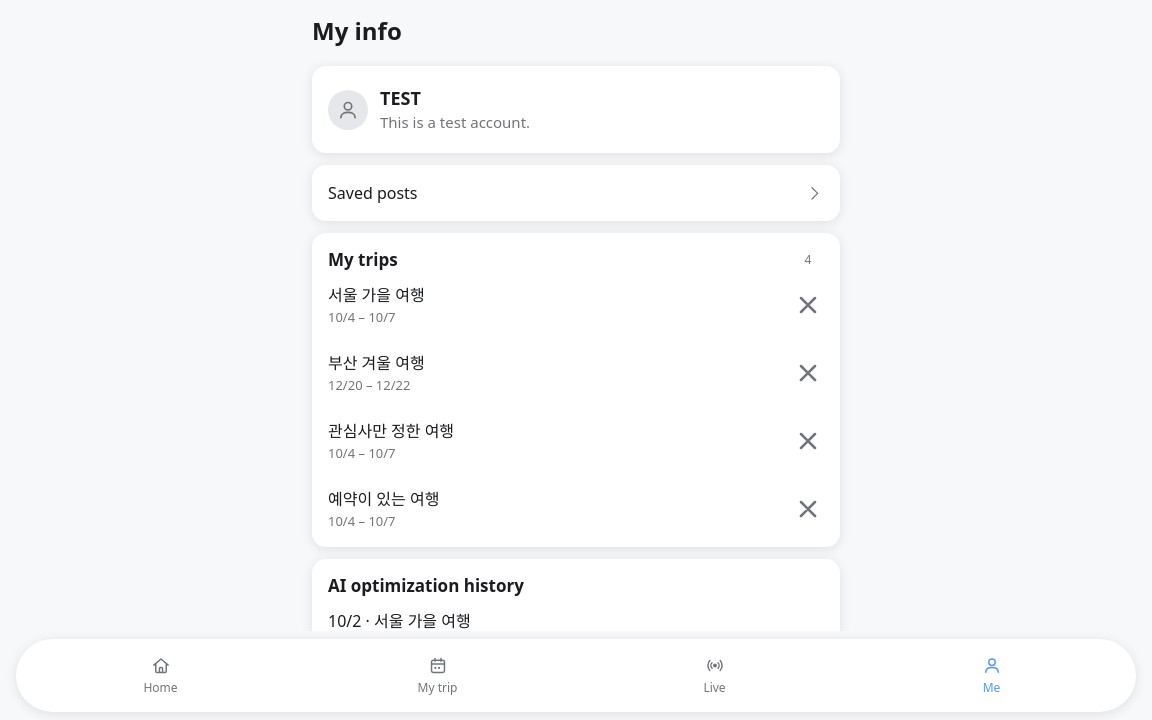
Scenario: FE-105-T4 closing a confirm on the profile returns focus › keeps focus in the page, not the document, once the row is deleted
Press Tab
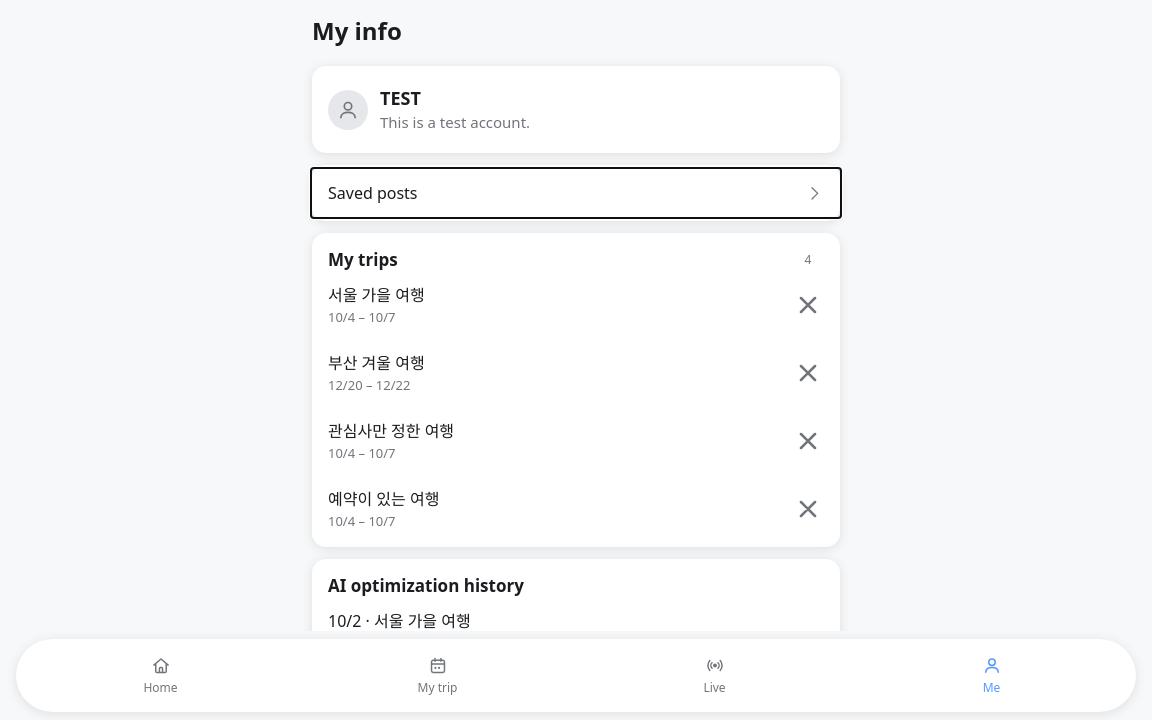
Press Tab
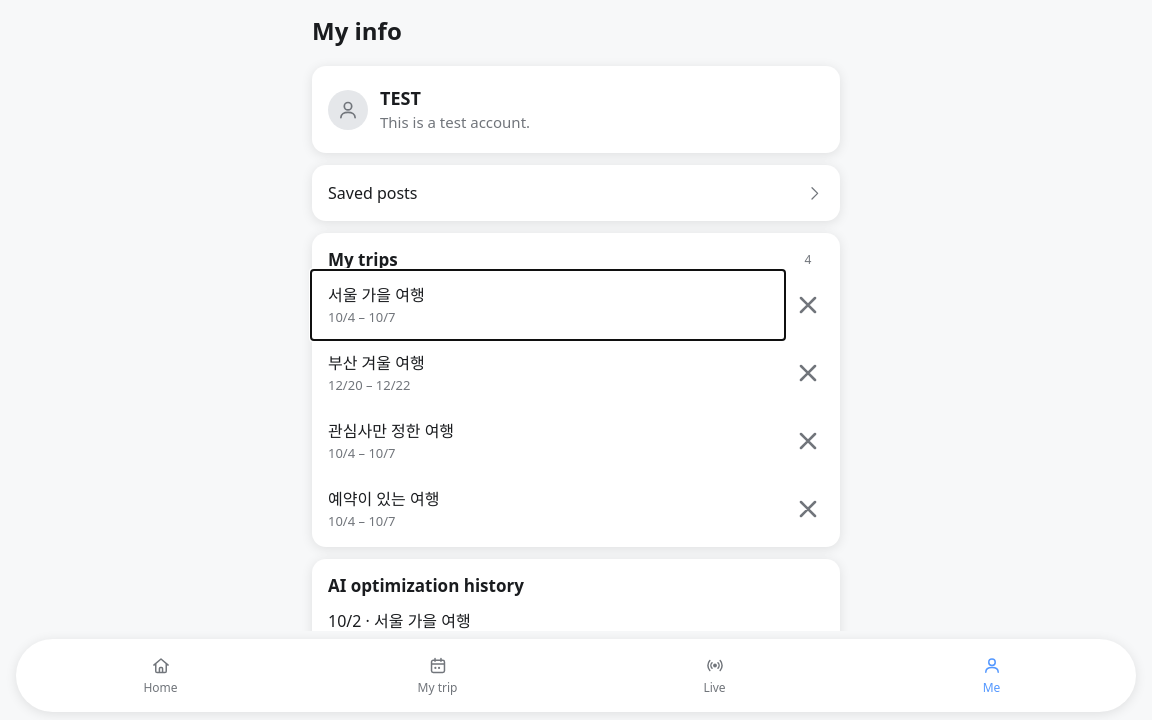
Press Tab
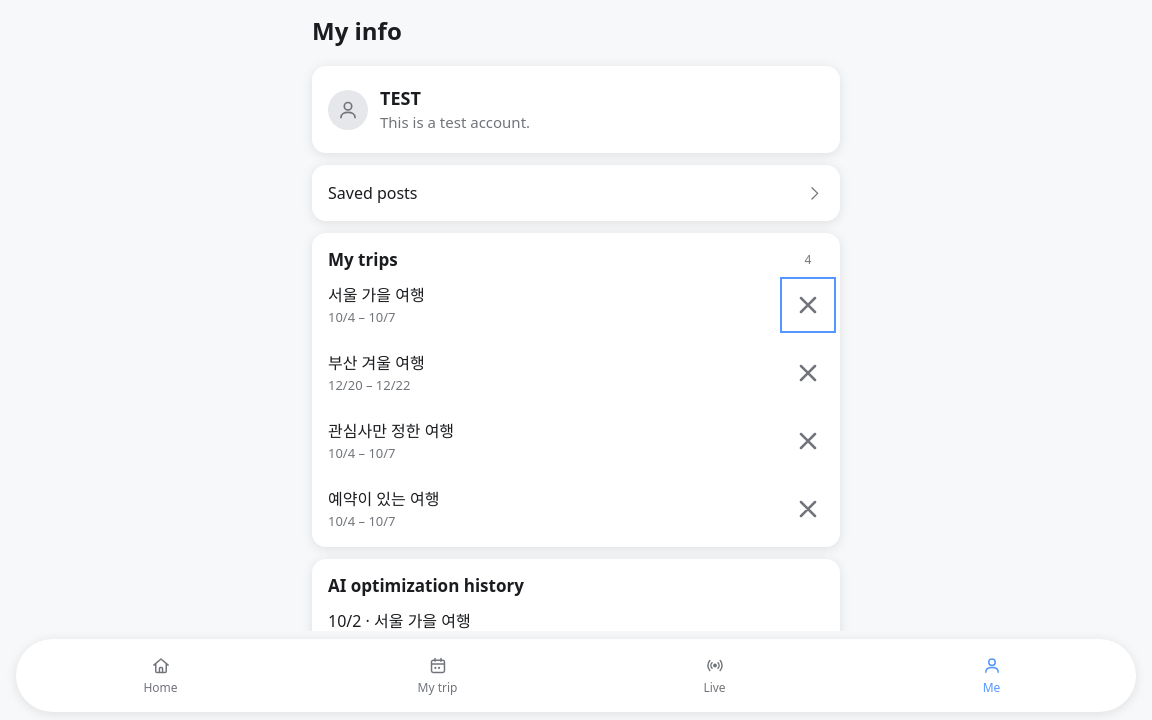
Press Enter
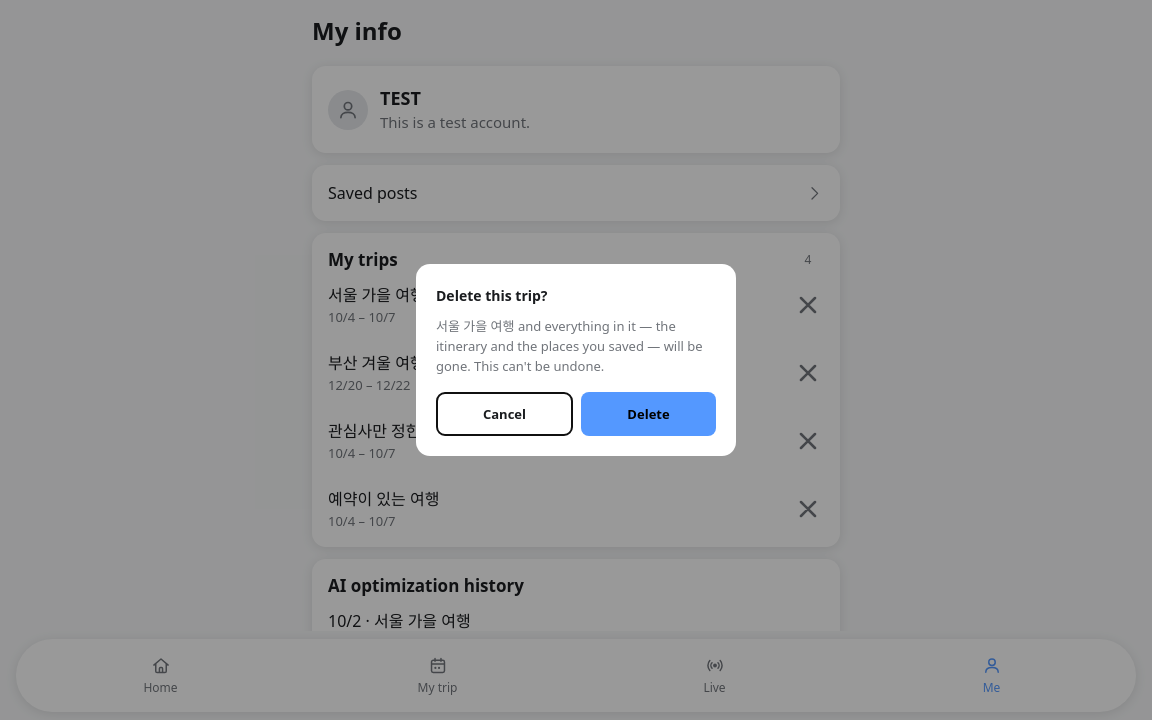
Click the button "Delete" at (648, 414), box 581,392 -> 716,436
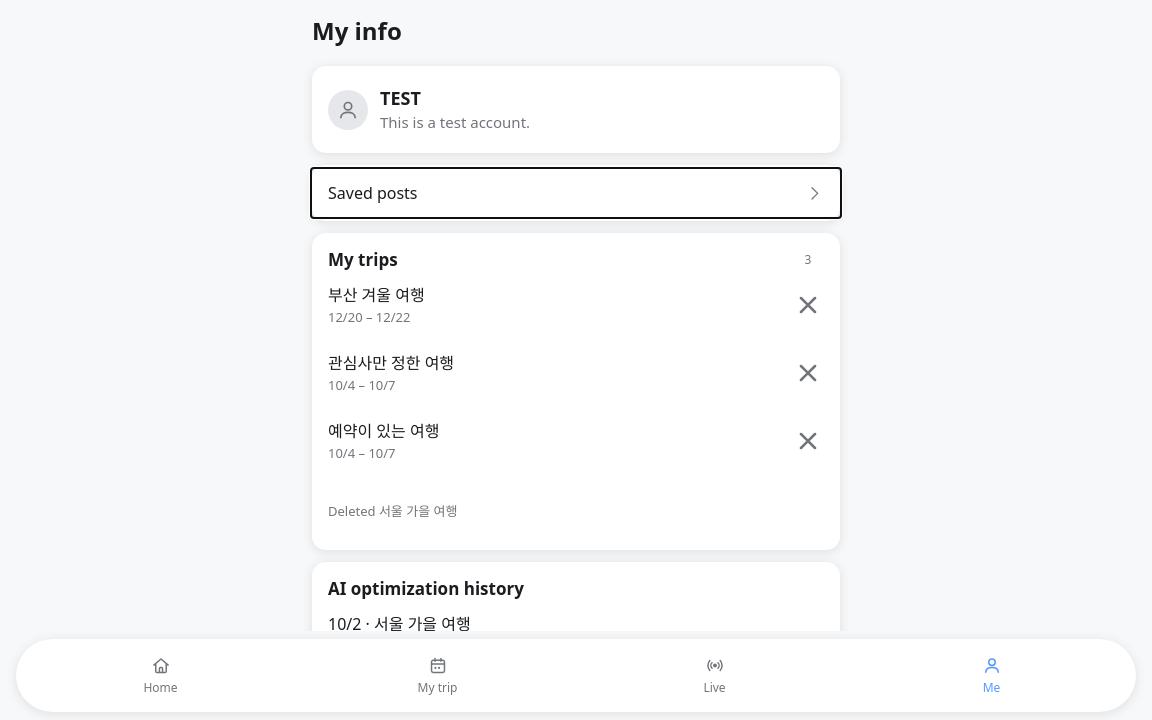
Result: the dialog is gone
